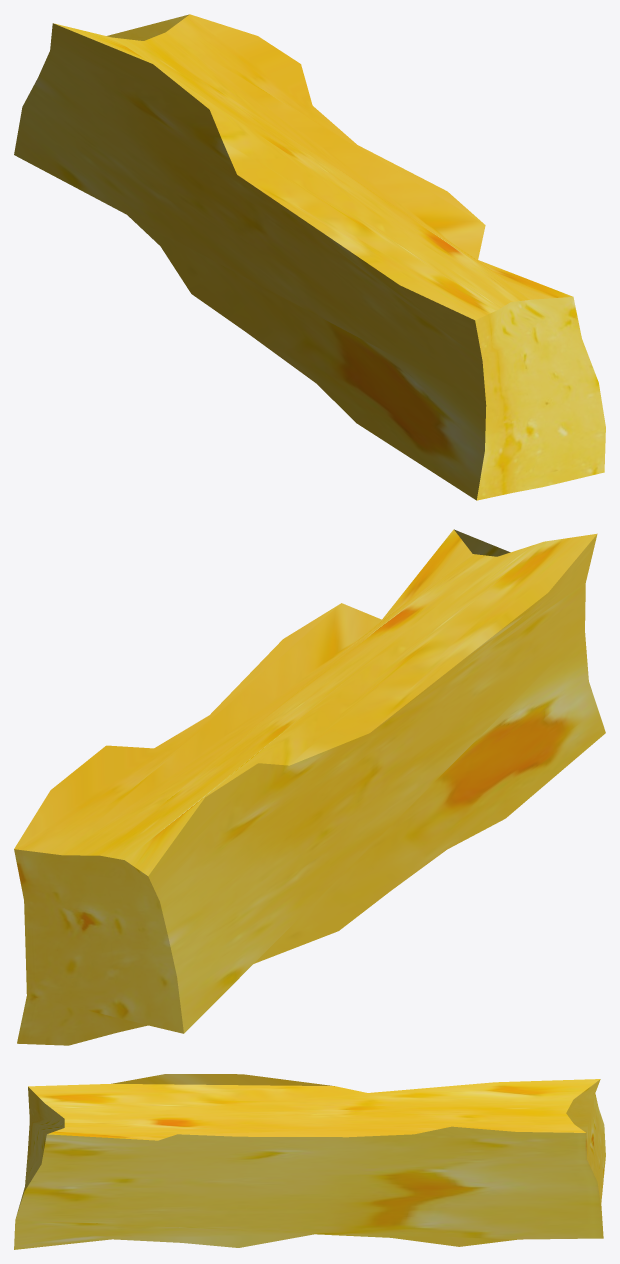
File: cheese_los.glb
3 renders of one model, top to bottom at view 1: azimuth 30°, elevation 25°; view 2: azimuth 150°, elevation 25°; view 3: azimuth 270°, elevation 25°, orthographic. The views are drawn at different scales.
Visible parts, largest first — view 1: Cube; view 2: Cube; view 3: Cube.
Boxes of the visible parts, x1=… form: Cube: x1=14, y1=14, x2=605, y2=500; Cube: x1=14, y1=529, x2=605, y2=1045; Cube: x1=14, y1=1074, x2=605, y2=1249.
Size of the model in its own units: 0.0129 by 0.0128 by 0.052.
Materials: 1 (1 with a texture image).
